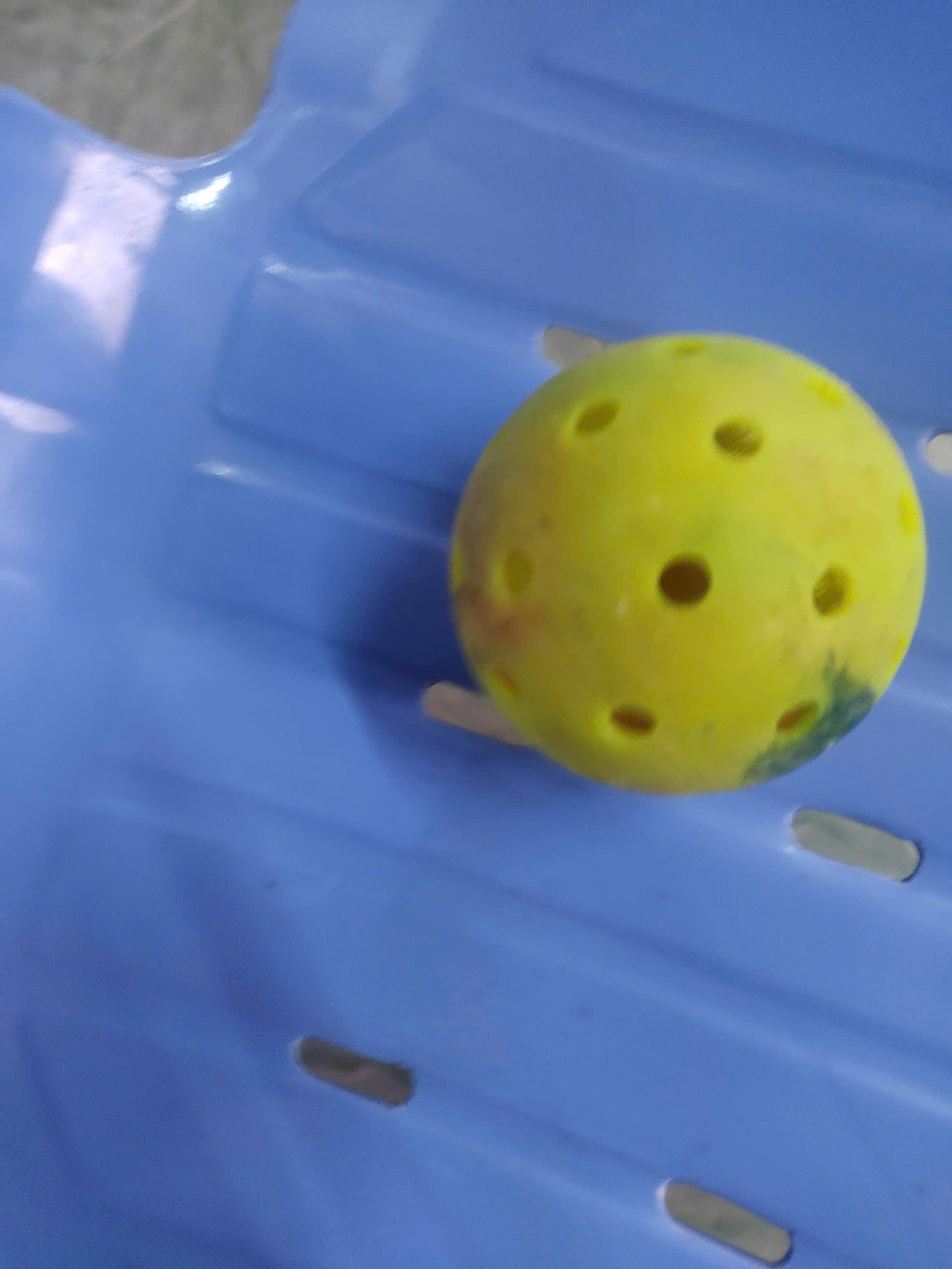ball: (441, 308, 937, 814)
